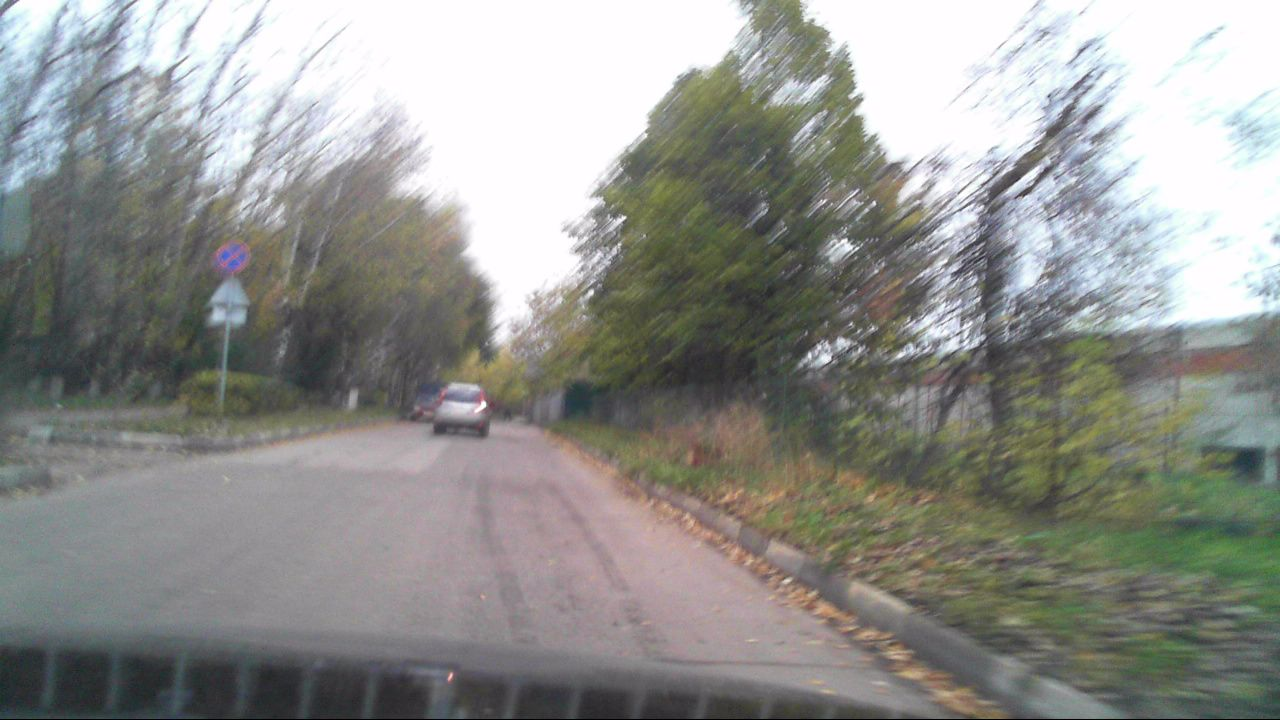No Parking: (215, 240, 249, 271)
